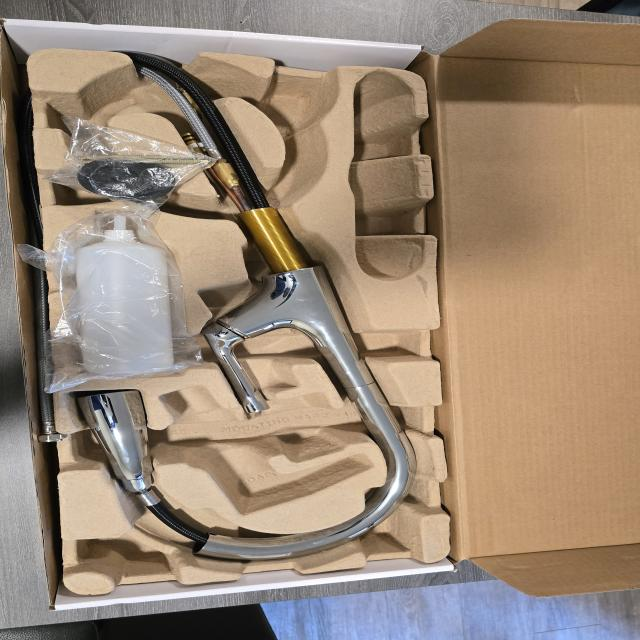1: (79, 52, 417, 562)
2m: (160, 386, 372, 514)
3: (71, 213, 174, 378)
4m: (346, 71, 424, 280)
5m: (262, 76, 331, 130)
6m: (47, 76, 148, 136)
7: (40, 113, 224, 220)
